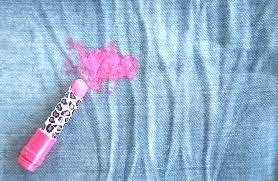lipstick: (61, 47, 137, 91), (64, 38, 96, 62)
